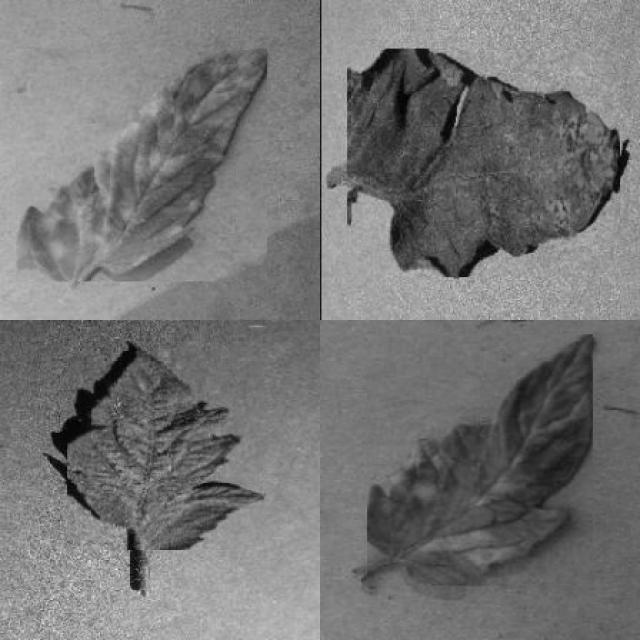Leaf Mold: (16, 48, 268, 282), (367, 335, 593, 585)
Mosaic Virus: (68, 350, 265, 550)
Septoria: (347, 48, 620, 278)
